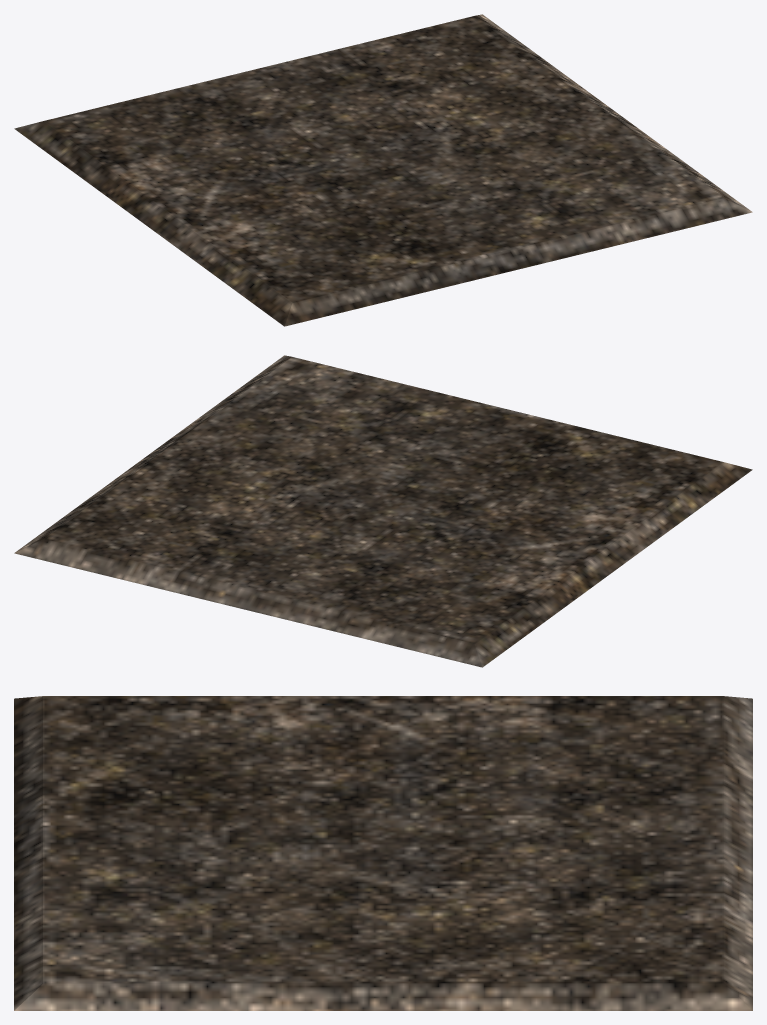
File: SM_TI_Slab_11.fbx
3 renders of one model, top to bottom at view 1: azimuth 30°, elevation 25°; view 2: azimuth 150°, elevation 25°; view 3: azimuth 270°, elevation 25°, orthographic. The views are drawn at different scales.
Visible parts, largest first — view 1: SM_TI_Slab_11; view 2: SM_TI_Slab_11; view 3: SM_TI_Slab_11.
Part boxes in pixels (x1,y1,x2,y2): SM_TI_Slab_11: [14, 14, 752, 326]; SM_TI_Slab_11: [14, 355, 752, 667]; SM_TI_Slab_11: [14, 696, 752, 1010].
Bounding box in the file's own units: 2 × 2 × 0.0442.
